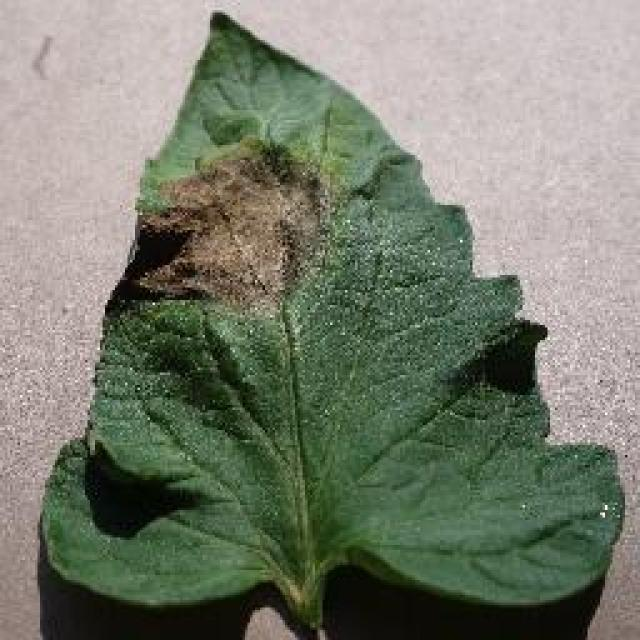Tomato Late Blight: (109, 130, 478, 387)
